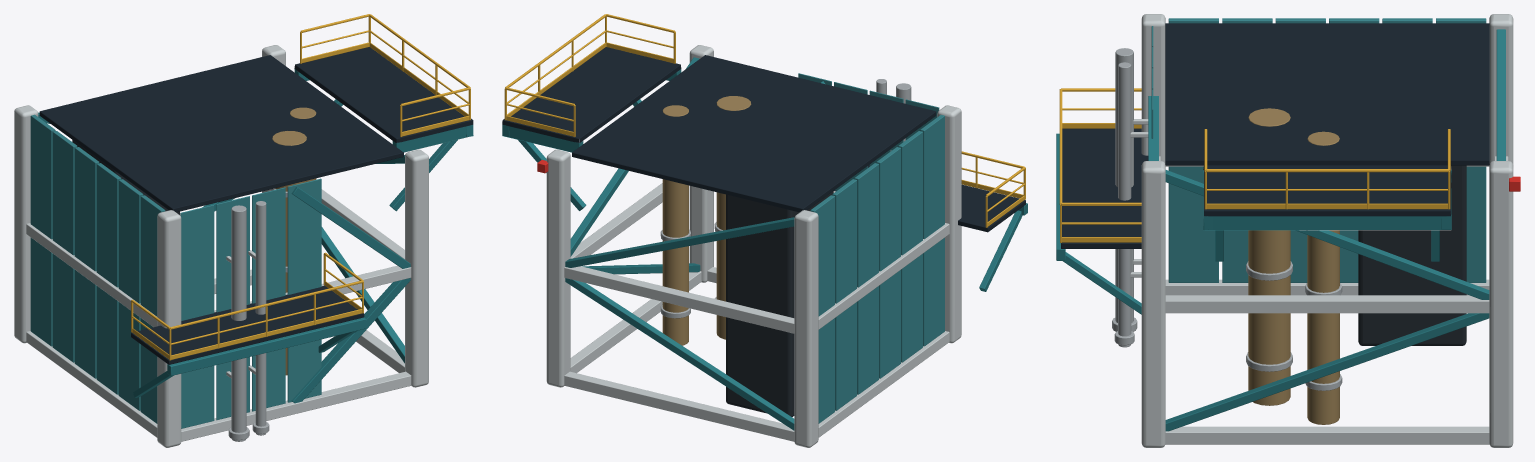
Rendered from hero_tower_segment_b.fbx.
3 renders of one model, left to right at view 1: azimuth 30°, elevation 25°; view 2: azimuth 150°, elevation 25°; view 3: azimuth 270°, elevation 25°, orthographic. The views are drawn at different scales.
Visible parts, largest first — view 1: hero_tower_segment_b; view 2: hero_tower_segment_b; view 3: hero_tower_segment_b.
Part boxes in pixels (<box>): hero_tower_segment_b: <box>14,14,473,447</box>; hero_tower_segment_b: <box>502,14,1027,447</box>; hero_tower_segment_b: <box>1056,14,1520,447</box>.
Bounding box in the file's own units: 13.22 × 9.11 × 12.02.
